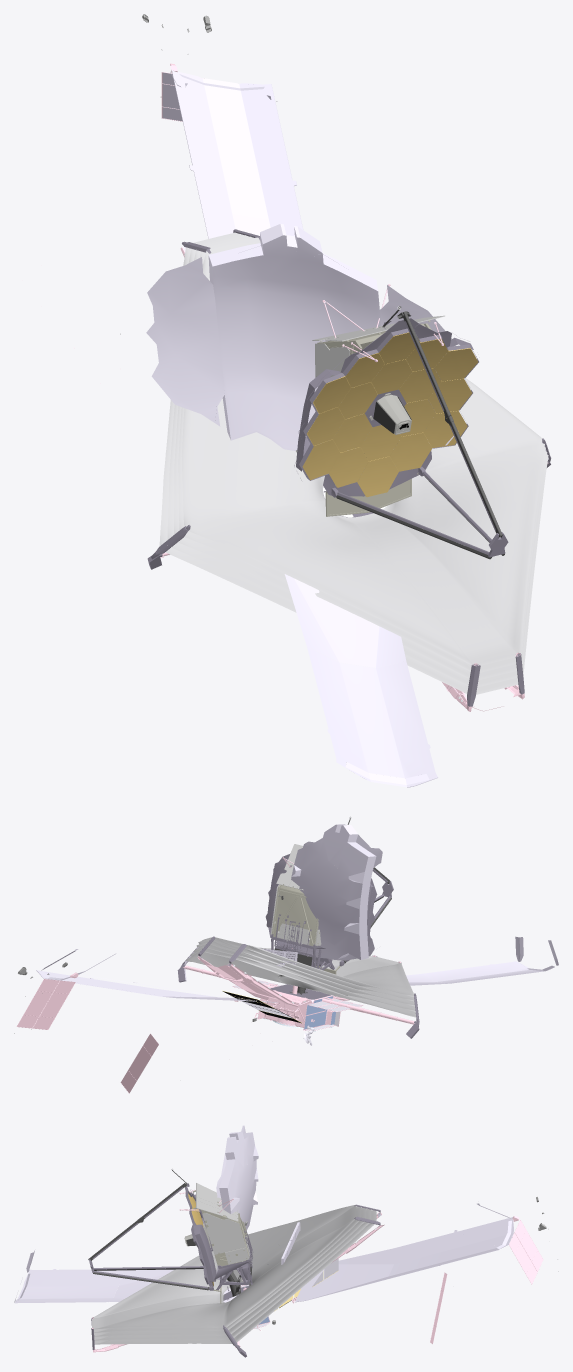
The picture shows the model from 3 angles, top to bottom: view 1: azimuth 30°, elevation 25°; view 2: azimuth 150°, elevation 25°; view 3: azimuth 270°, elevation 25°; orthographic projection. The views are drawn at different scales.
Parts seen in each view (by area): view 1: James_Webb_Space_Telescope:aft_flap_assy1, James_Webb_Space_Telescope:poly_p2_l1, James_Webb_Space_Telescope:mirror10, James_Webb_Space_Telescope:asm_corecovrs_hr_car_v002:corcvr, James_Webb_Space_Telescope:basecylinder2, James_Webb_Space_Telescope:low_rads, James_Webb_Space_Telescope:stray_h1_brace1; view 2: James_Webb_Space_Telescope:aft_flap_assy1, James_Webb_Space_Telescope:poly_p2_l1, James_Webb_Space_Telescope:asm_corecovrs_hr_car_v002:corcvr, James_Webb_Space_Telescope:midstr_t_wrap, James_Webb_Space_Telescope:bus_body, James_Webb_Space_Telescope:aft_ups_asssy, James_Webb_Space_Telescope:low_rads, James_Webb_Space_Telescope:bus_rad1_pan, James_Webb_Space_Telescope:mboom1_base_boom, James_Webb_Space_Telescope:slrpnl1, James_Webb_Space_Telescope:battery_ssm, James_Webb_Space_Telescope:asm_covrcleats_hr_car_v001:aftsd. (+2 smaller); view 3: James_Webb_Space_Telescope:poly_p2_l1, James_Webb_Space_Telescope:aft_flap_assy1, James_Webb_Space_Telescope:asm_corecovrs_hr_car_v002:corcvr, James_Webb_Space_Telescope:low_rads, James_Webb_Space_Telescope:basecylinder2, James_Webb_Space_Telescope:midstr_t_plate1, James_Webb_Space_Telescope:slrpnl1.
Boxes of the visible parts, x1,y1,x2,y2 form: James_Webb_Space_Telescope:aft_flap_assy1: (41, 63, 458, 787); James_Webb_Space_Telescope:poly_p2_l1: (159, 232, 548, 694); James_Webb_Space_Telescope:mirror10: (302, 332, 477, 497); James_Webb_Space_Telescope:asm_corecovrs_hr_car_v002:corcvr: (182, 229, 524, 706); James_Webb_Space_Telescope:basecylinder2: (336, 319, 504, 559); James_Webb_Space_Telescope:low_rads: (312, 315, 444, 377); James_Webb_Space_Telescope:stray_h1_brace1: (325, 472, 418, 516); James_Webb_Space_Telescope:aft_flap_assy1: (16, 824, 558, 1093); James_Webb_Space_Telescope:poly_p2_l1: (186, 937, 416, 1017); James_Webb_Space_Telescope:asm_corecovrs_hr_car_v002:corcvr: (198, 853, 401, 970); James_Webb_Space_Telescope:midstr_t_wrap: (273, 884, 319, 945); James_Webb_Space_Telescope:bus_body: (258, 984, 333, 1029); James_Webb_Space_Telescope:aft_ups_asssy: (197, 956, 298, 1006); James_Webb_Space_Telescope:low_rads: (270, 844, 321, 945); James_Webb_Space_Telescope:bus_rad1_pan: (233, 980, 361, 1045); James_Webb_Space_Telescope:mboom1_base_boom: (185, 965, 414, 1024); James_Webb_Space_Telescope:slrpnl1: (222, 990, 302, 1023); James_Webb_Space_Telescope:battery_ssm: (304, 996, 335, 1029); James_Webb_Space_Telescope:asm_covrcleats_hr_car_v001:aftsd.: (274, 921, 316, 944); James_Webb_Space_Telescope:poly_p2_l1: (92, 1205, 376, 1344); James_Webb_Space_Telescope:aft_flap_assy1: (14, 1125, 543, 1343); James_Webb_Space_Telescope:asm_corecovrs_hr_car_v002:corcvr: (89, 1183, 380, 1349); James_Webb_Space_Telescope:low_rads: (196, 1183, 249, 1264); James_Webb_Space_Telescope:basecylinder2: (91, 1185, 240, 1296); James_Webb_Space_Telescope:midstr_t_plate1: (193, 1190, 249, 1265); James_Webb_Space_Telescope:slrpnl1: (274, 1258, 338, 1311).
Size of the model in its own units: 15.61 by 14.01 by 34.71.
